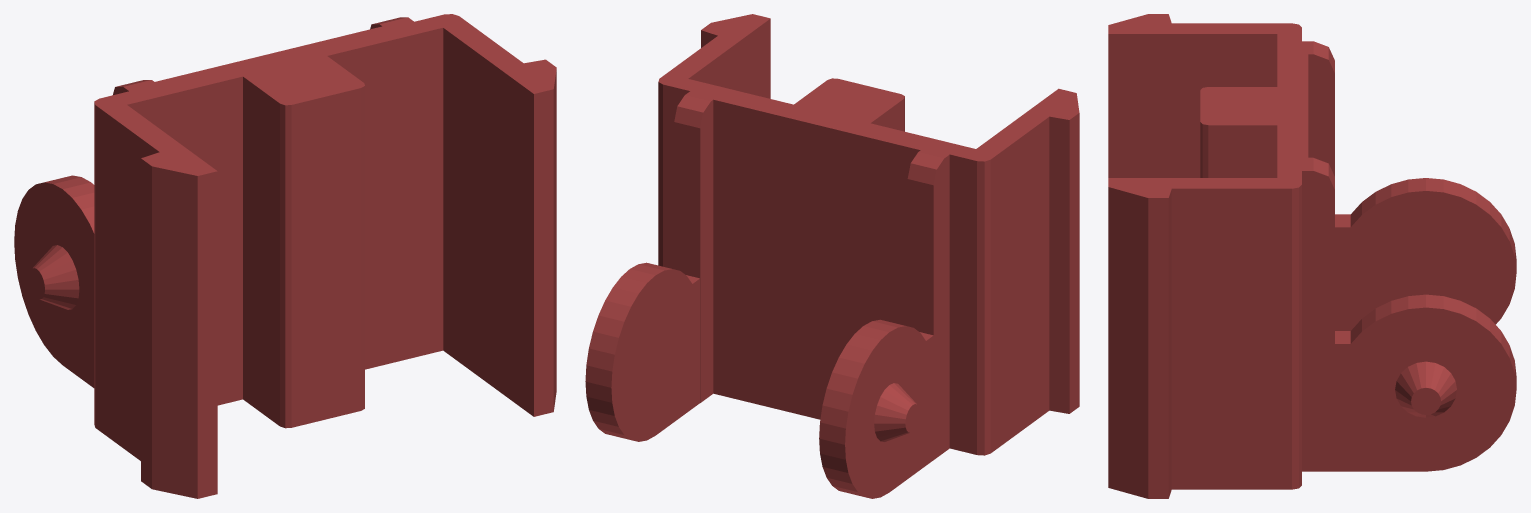
Rendered from cableChain_40MountTop_v2-93.glb.
3 views of the same model, side by side, from view 1: azimuth 30°, elevation 25°; view 2: azimuth 150°, elevation 25°; view 3: azimuth 270°, elevation 25° (orthographic). The views are drawn at different scales.
Bounding box in the file's own units: 28.86 × 22 × 27.05.
